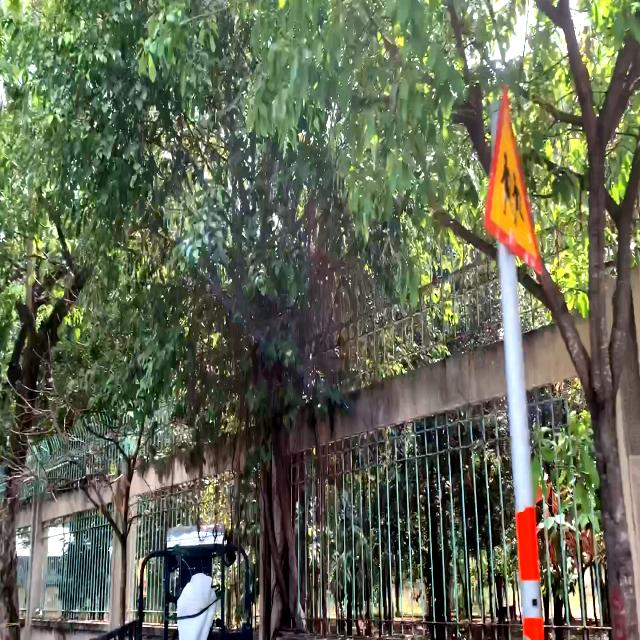W.225: (482, 74, 544, 289)
